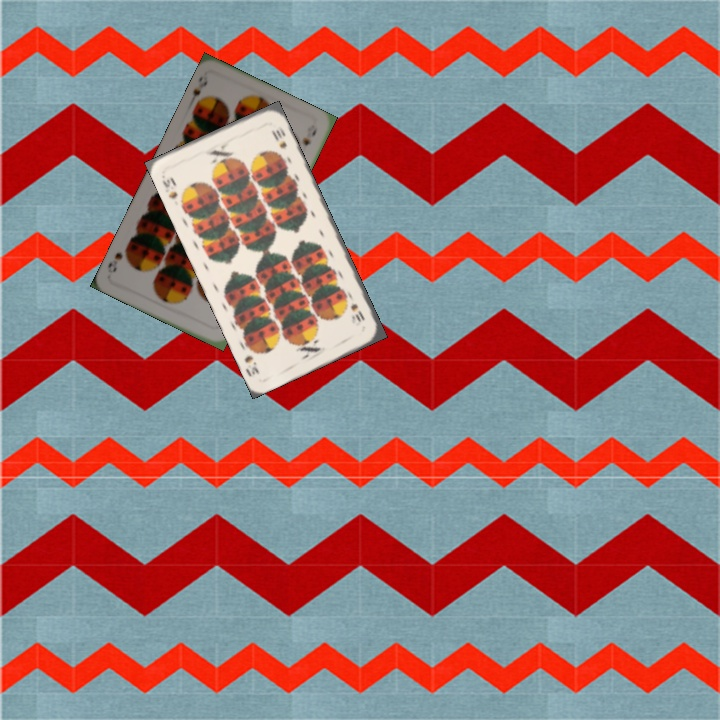S10: (158, 173, 180, 201), (347, 298, 367, 325)
S9: (185, 71, 211, 108)
